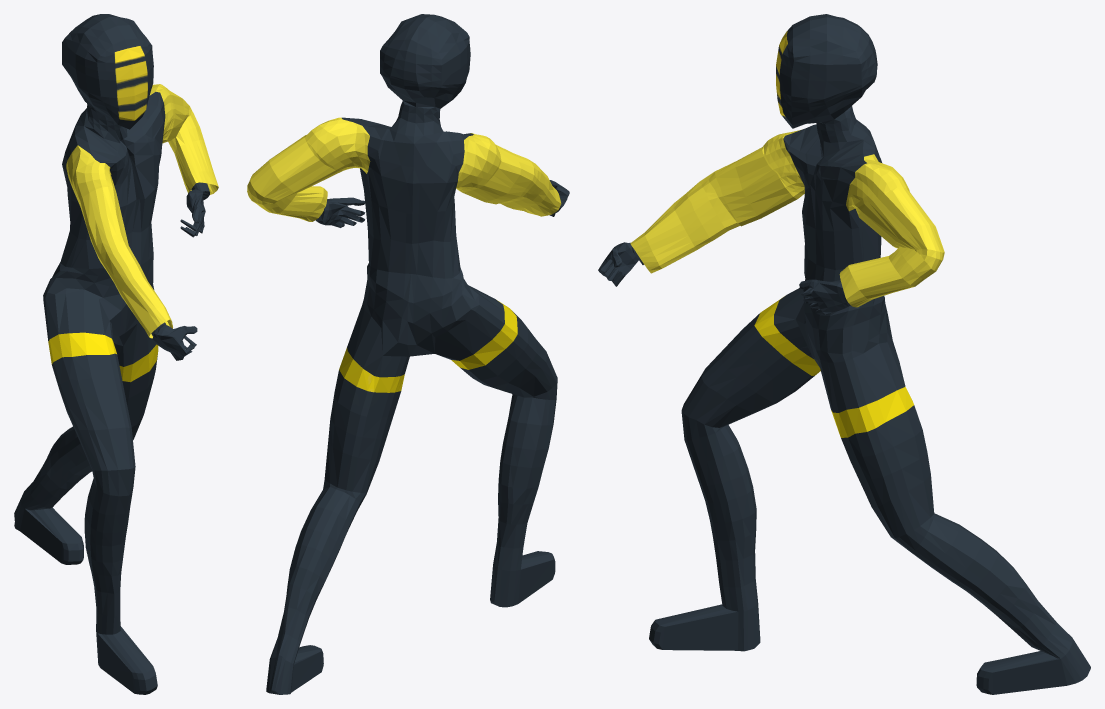
The model's file is Sentry_Hit_Stun_000002.obj.
The picture shows the model from 3 angles, left to right: view 1: azimuth 30°, elevation 25°; view 2: azimuth 150°, elevation 25°; view 3: azimuth 270°, elevation 25°; orthographic projection. The views are drawn at different scales.
Parts seen in each view (by area): view 1: Cube; view 2: Cube; view 3: Cube.
Part boxes in pixels (x1,y1,x2,y2): Cube: (14,14,218,694); Cube: (247,14,569,694); Cube: (598,14,1090,694).
Size of the model in its own units: 1.28 by 3.59 by 2.46.
